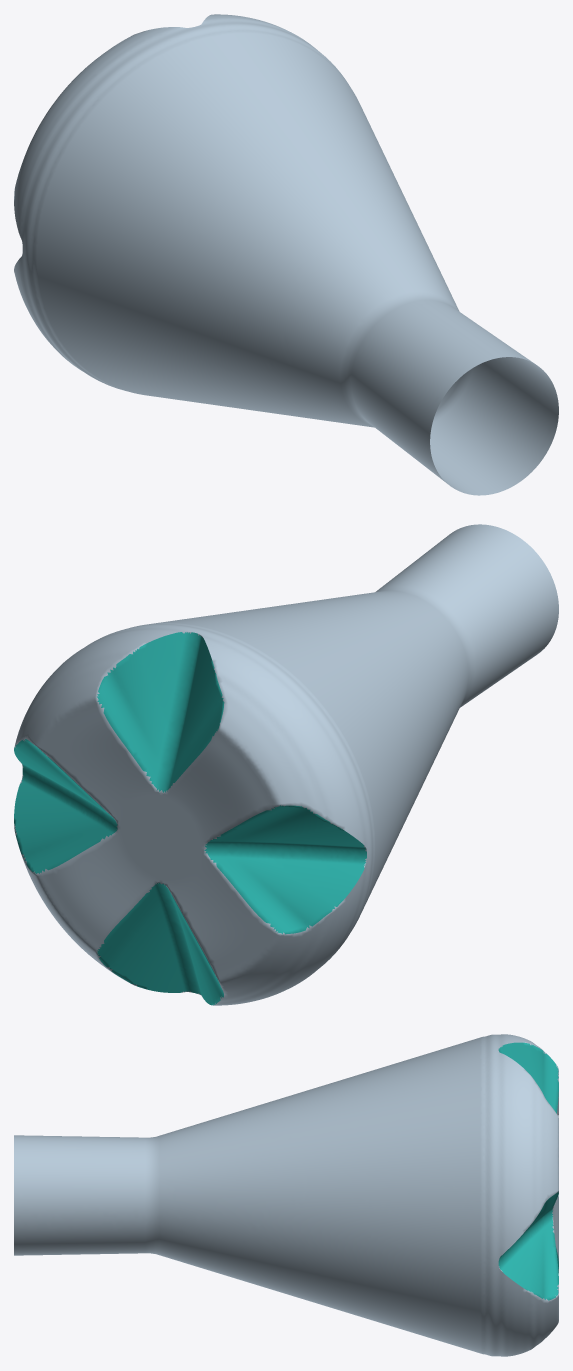
Rendered from plastic-baffled.glb.
3 renders of one model, top to bottom at view 1: azimuth 30°, elevation 25°; view 2: azimuth 150°, elevation 25°; view 3: azimuth 270°, elevation 25°, orthographic. The views are drawn at different scales.
Parts seen in each view (by area): view 1: plastic-baffled; view 2: plastic-baffled; view 3: plastic-baffled.
Part boxes in pixels (x1,y1,x2,y2): plastic-baffled: (14,14,558,495); plastic-baffled: (14,524,558,1005); plastic-baffled: (14,1034,558,1356).
Bounding box in the file's own units: 0.0801 × 0.0801 × 0.1357.
